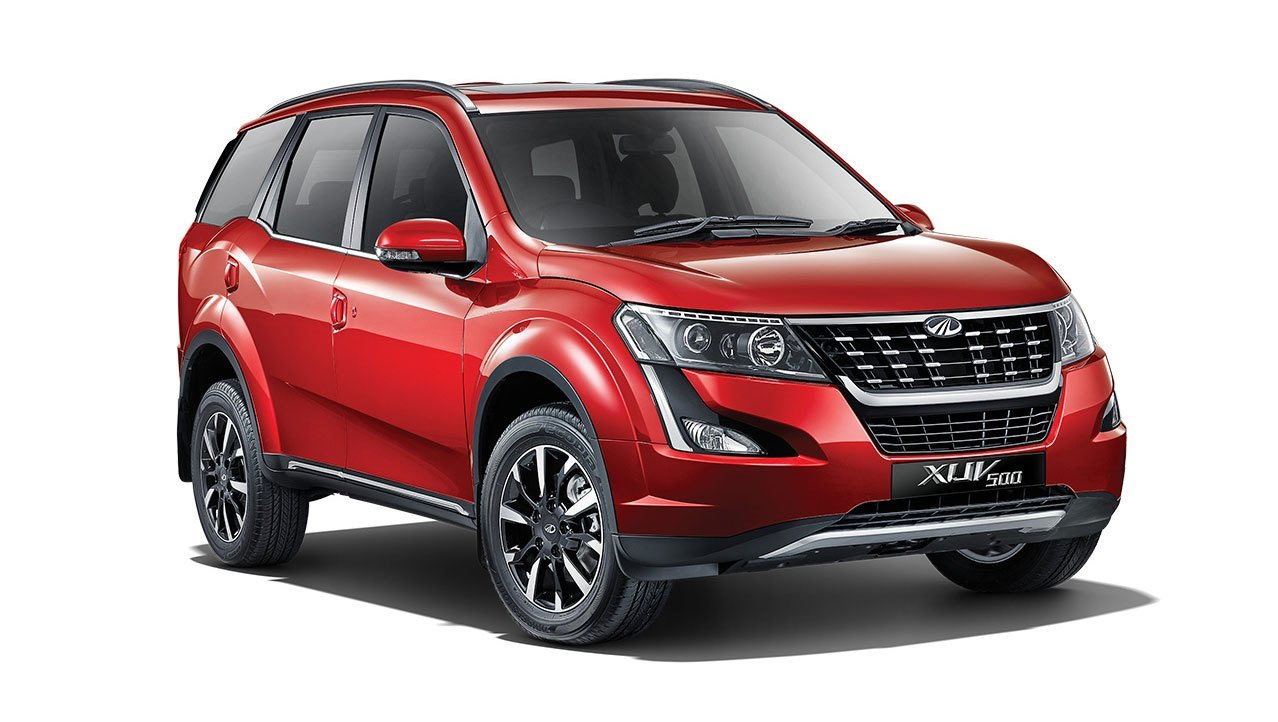Car: (165, 53, 1147, 654)
